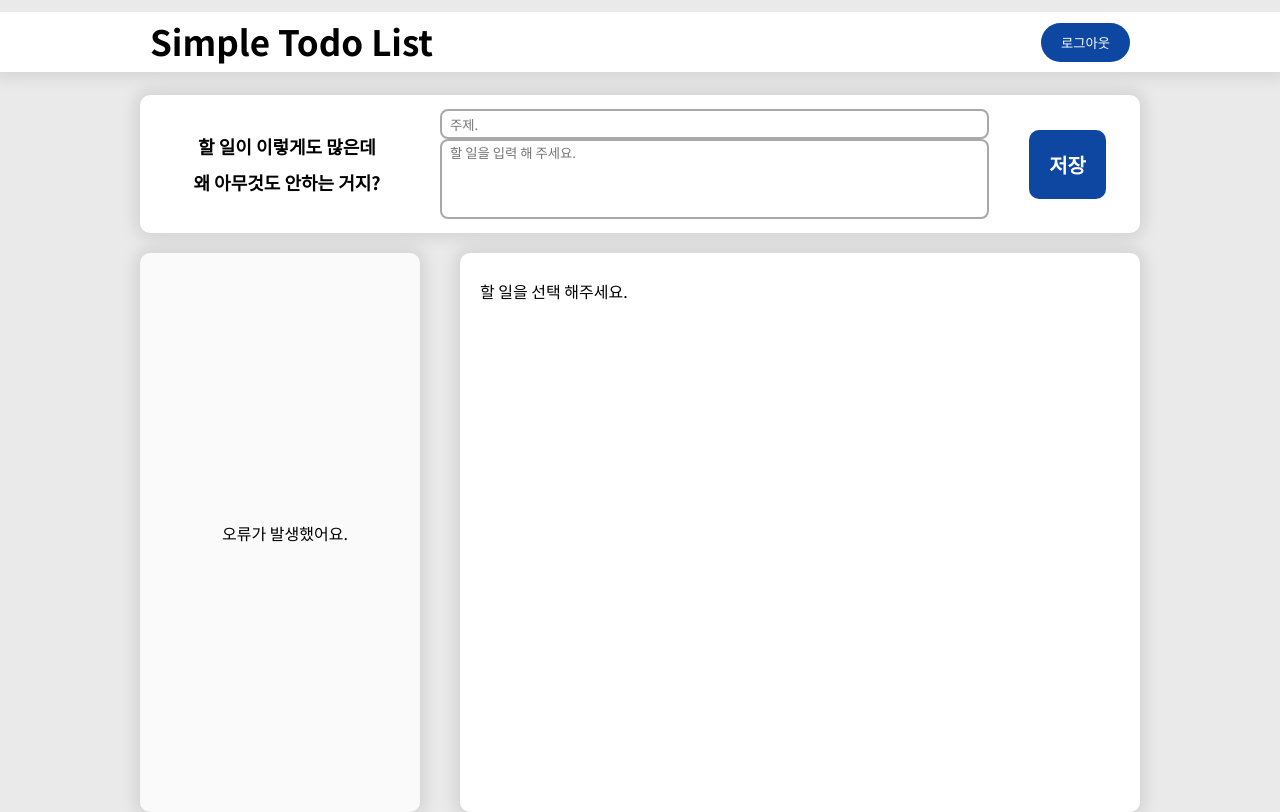
Test case: logout › should be logged out
The image size is (1280, 812).
Click the button with test id "button-logout".
click(1086, 43)  # box [1041,23,1130,62]
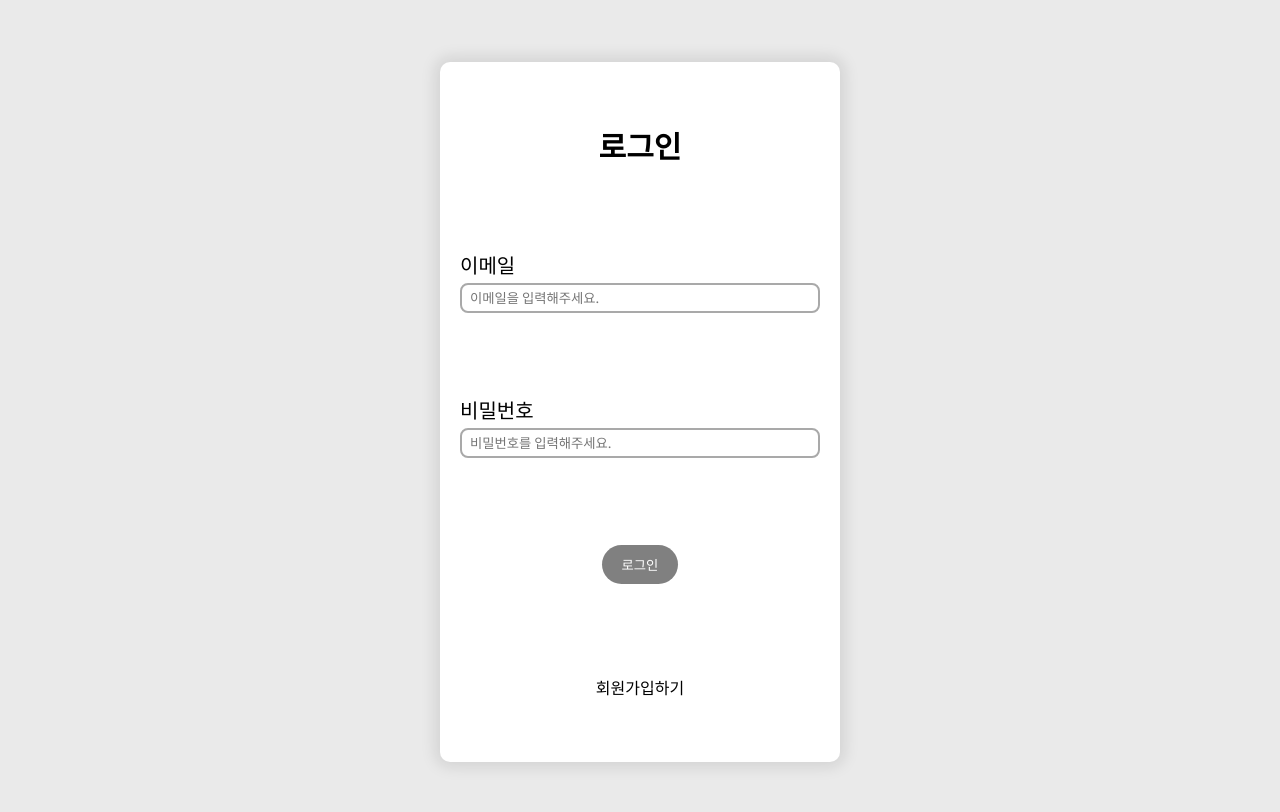
Check: the element with test id "input-email" is shown, box [460,255,820,313]
